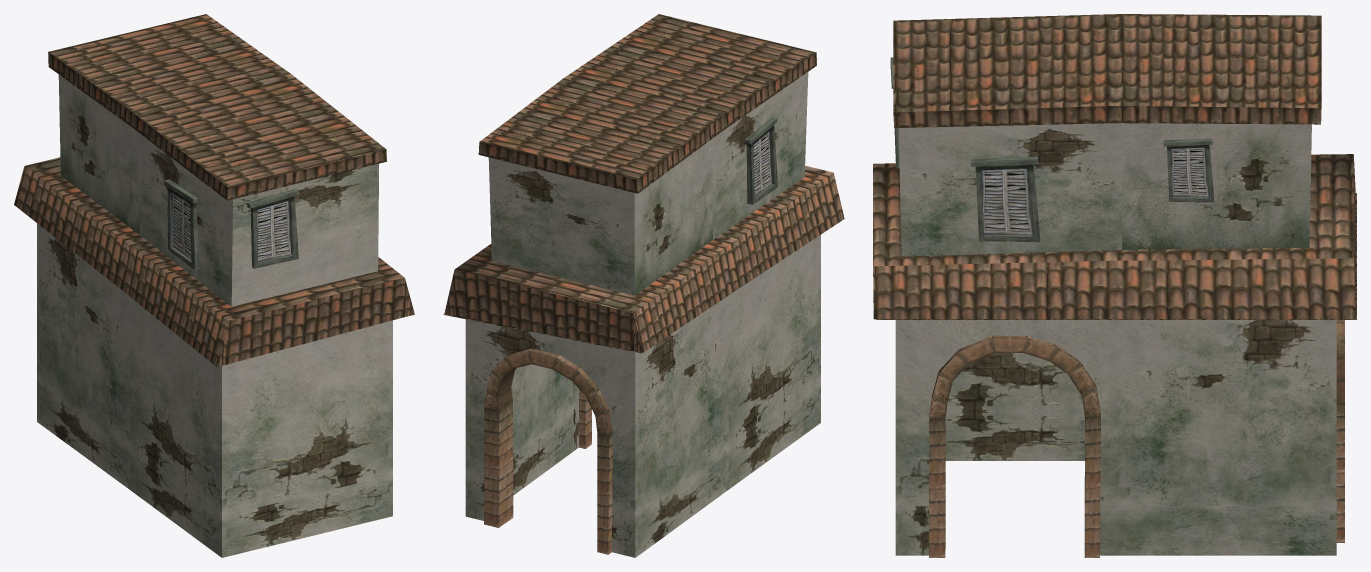
The model's file is spanish_npc_house_q_exterior.fbx.
3 views of the same model, side by side, from view 1: azimuth 30°, elevation 25°; view 2: azimuth 150°, elevation 25°; view 3: azimuth 270°, elevation 25° (orthographic). The views are drawn at different scales.
Visible parts, largest first — view 1: outerWall, roof, walls, roof_flat, foundation, window_03, window_04; view 2: outerWall, roof, walls, roof_flat, foundation, arch02, window_04, arch01; view 3: outerWall, roof, walls, roof_flat, foundation, arch01, window_01, window_02, arch02, roof_inderside.
Boxes of the visible parts, x1,y1,x2,y2 form: outerWall: (37,223,392,516); roof: (48,14,386,200); walls: (58,74,378,306); roof_flat: (14,157,414,366); foundation: (37,380,392,557); window_03: (247,188,298,268); window_04: (164,179,199,269); outerWall: (465,235,820,516); roof: (478,14,816,193); walls: (488,72,808,295); roof_flat: (444,165,844,352); foundation: (465,381,820,557); arch02: (484,348,612,554); window_04: (744,117,777,204); arch01: (579,389,591,448); outerWall: (895,320,1336,506); roof: (893,14,1321,127); walls: (898,123,1311,255); roof_flat: (873,154,1355,319); foundation: (895,411,1337,555); arch01: (929,335,1100,557); window_01: (970,156,1040,242); window_02: (1163,138,1214,202); arch02: (1336,320,1344,542); roof_inderside: (876,193,1356,319).
Size of the model in its own units: 2468 by 4437 by 4367.
2 materials, 2 textured.
